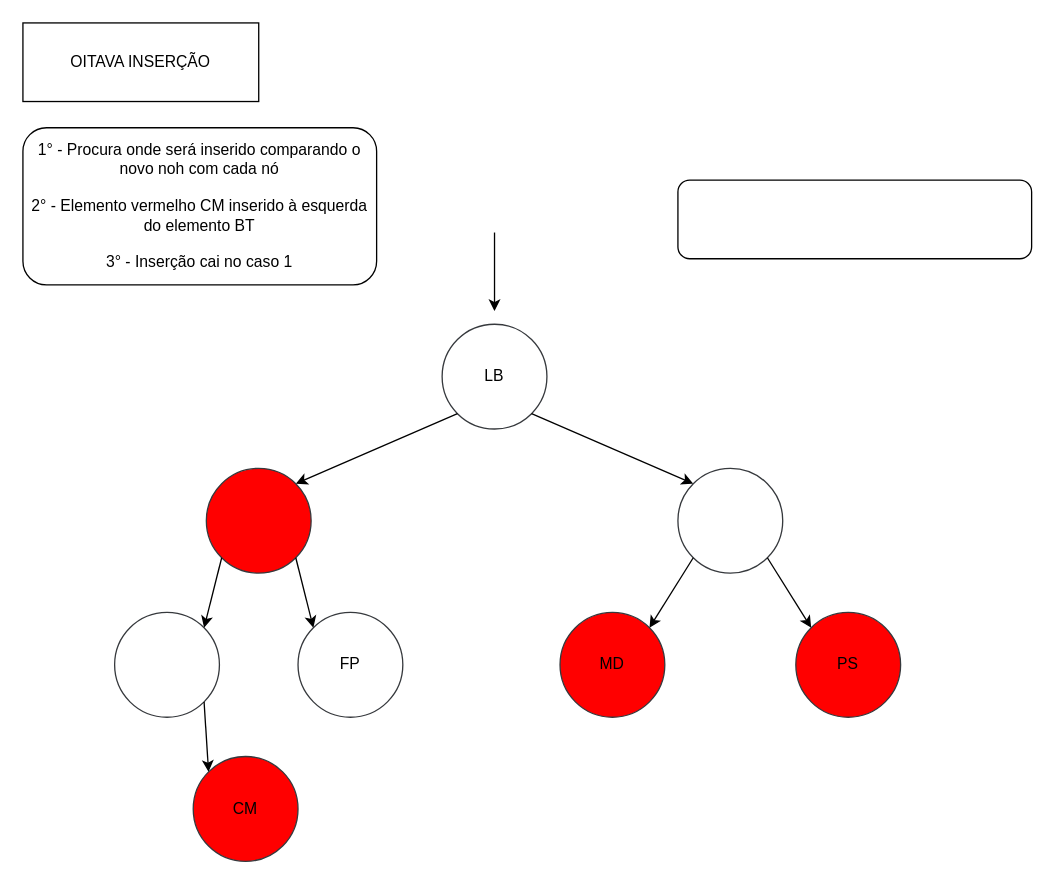
Image size: 1055x884. Some labels were removed from this diagram. The shapes that lost their labels are listed below. From the top down, each one's box as (x1, y1, x2, y2) in pixels, then its label:
(677, 179, 1032, 259): Caso 1: Alterar a cor do pai, do tio e do avô
(205, 467, 311, 573): DJ
(677, 467, 783, 573): NE
(113, 611, 219, 717): BT
